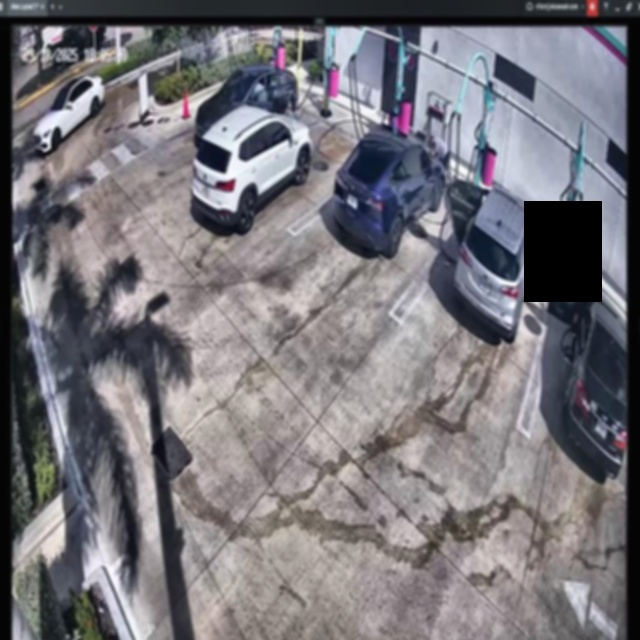Car: (446, 178, 539, 339), (331, 125, 442, 255), (197, 110, 311, 231), (194, 67, 299, 140)
